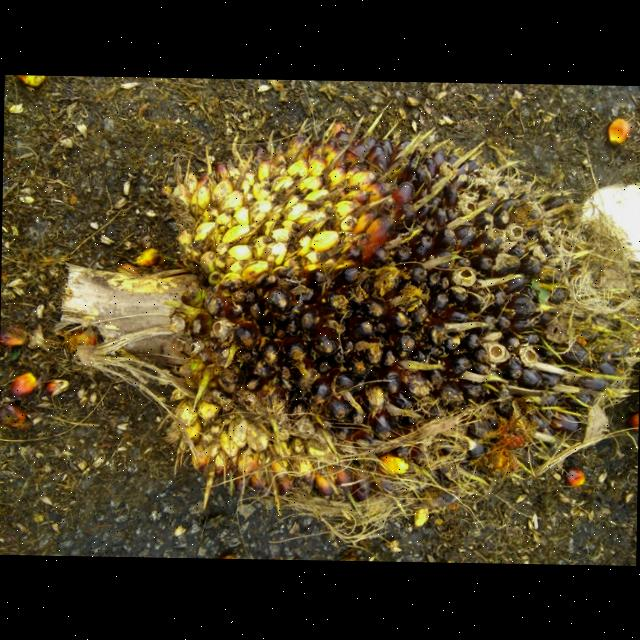Unripe: (149, 142, 629, 510)
